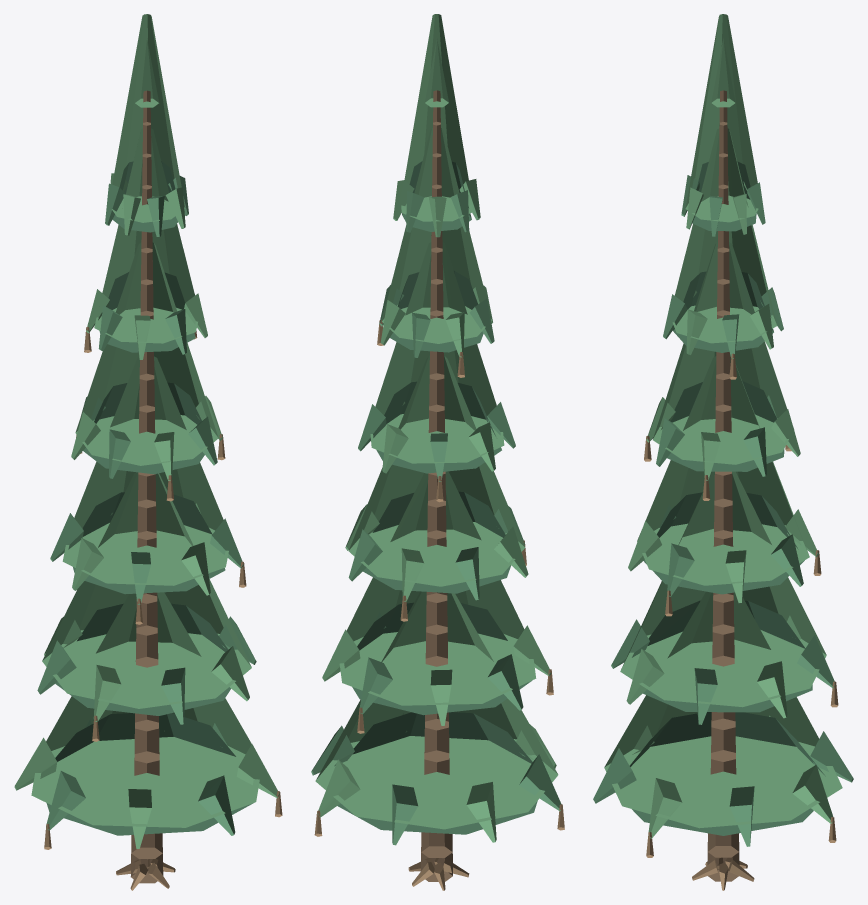
The model's file is spruce.glb.
The picture shows the model from 3 angles, left to right: view 1: azimuth 30°, elevation 25°; view 2: azimuth 150°, elevation 25°; view 3: azimuth 270°, elevation 25°; orthographic projection.
Visible parts, largest first — view 1: Tier#2, Tier#4, Tier#6, Tier#8, Tier#10, Tier#12, Tier, Tier#3, Tier#5, Tier#7, Tier#9, Tip#2 (+28 smaller); view 2: Tier#2, Tier#4, Tier#6, Tier#8, Tier#10, Tier#12, Tier, Tier#3, Tier#5, Tier#7, Tier#9, Tip#5 (+30 smaller); view 3: Tier#2, Tier#4, Tier#6, Tier#8, Tier#10, Tier#12, Tier, Tier#3, Tier#5, Tier#7, Tier#9, Tip#7 (+29 smaller).
Part boxes in pixels (<box>): Tier#2: <box>31,592,259,827</box>; Tier#4: <box>42,472,251,708</box>; Tier#6: <box>62,356,228,585</box>; Tier#8: <box>75,242,218,465</box>; Tier#10: <box>94,128,197,343</box>; Tier#12: <box>112,14,185,222</box>; Tier: <box>46,713,253,835</box>; Tier#3: <box>55,603,230,715</box>; Tier#5: <box>73,492,225,594</box>; Tier#7: <box>83,382,204,474</box>; Tier#9: <box>99,272,195,352</box>; Tip#2: <box>198,775,235,835</box>; Tier#2: <box>315,591,558,829</box>; Tier#4: <box>339,471,536,705</box>; Tier#6: <box>348,355,525,586</box>; Tier#8: <box>370,242,504,463</box>; Tier#10: <box>381,128,491,343</box>; Tier#12: <box>401,14,472,221</box>; Tier: <box>337,712,537,834</box>; Tier#3: <box>352,602,532,715</box>; Tier#5: <box>363,491,510,593</box>; Tier#7: <box>376,381,501,473</box>; Tier#9: <box>390,270,483,352</box>; Tip#5: <box>466,782,496,842</box>; Tier#2: <box>604,591,842,828</box>; Tier#4: <box>620,471,826,707</box>; Tier#6: <box>637,356,809,585</box>; Tier#8: <box>653,242,794,464</box>; Tier#10: <box>672,128,776,343</box>; Tier#12: <box>685,14,758,222</box>; Tier: <box>615,712,825,835</box>; Tier#3: <box>643,600,812,712</box>; Tier#5: <box>644,492,804,594</box>; Tier#7: <box>667,381,784,471</box>; Tier#9: <box>673,271,773,352</box>; Tip#7: <box>792,765,833,823</box>.
Bounding box in the file's own units: 5 × 18.04 × 4.95.
